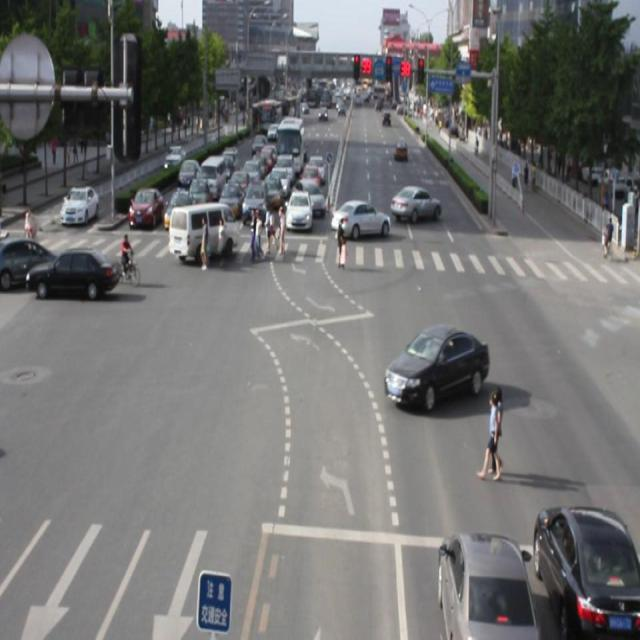car: (530, 496, 640, 640), (433, 526, 534, 640), (384, 321, 489, 406)
truck: (169, 200, 240, 260)
